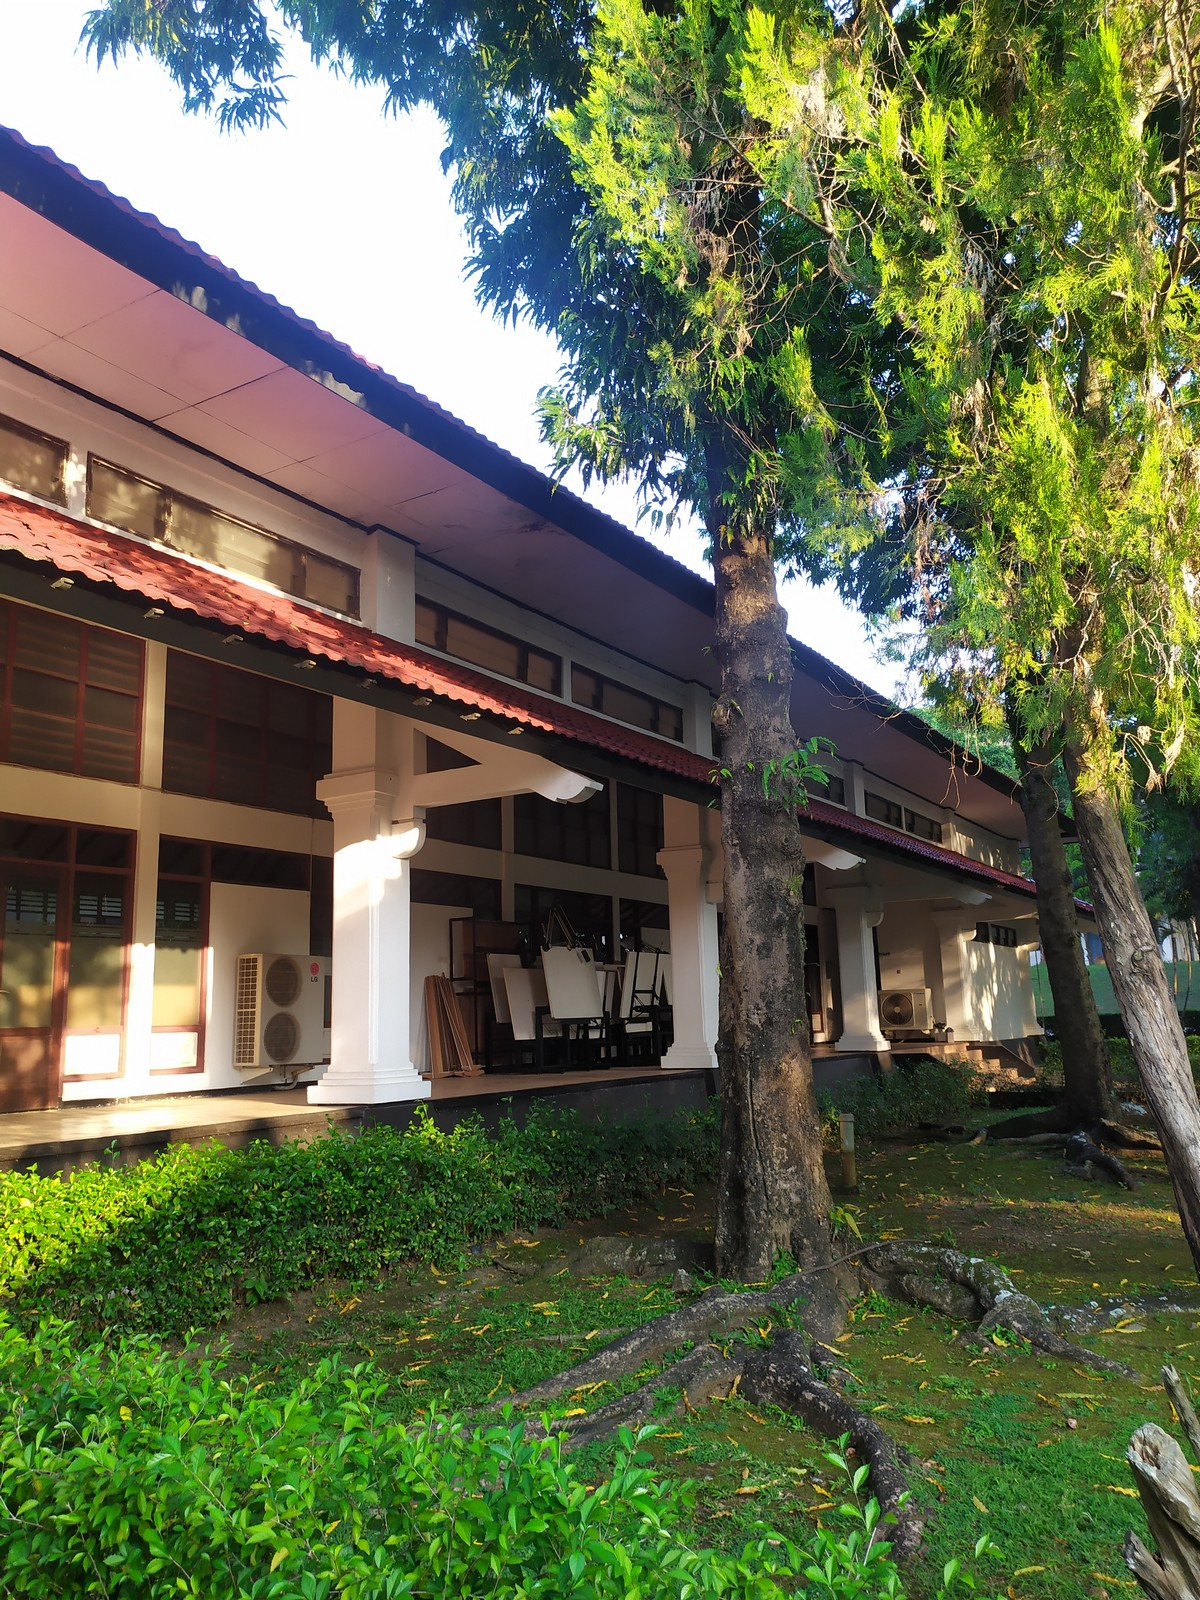concrete column: (320, 813, 424, 1089), (655, 858, 724, 1049), (832, 903, 889, 1038)
